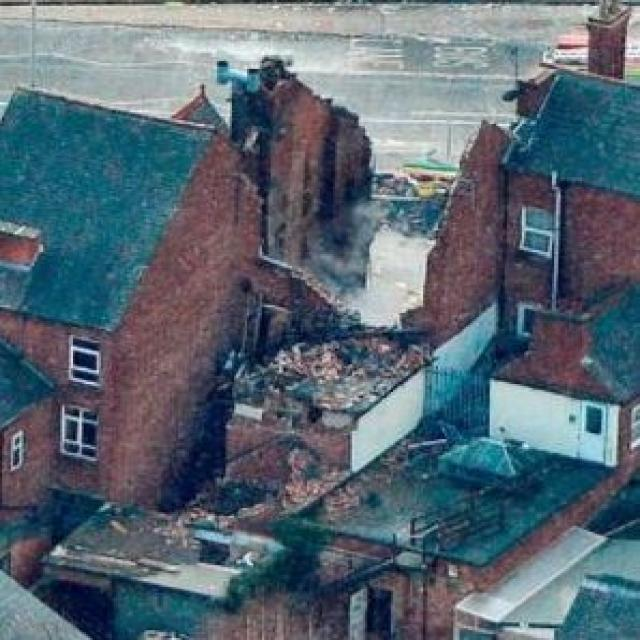collapsed_building: (212, 71, 474, 492)
